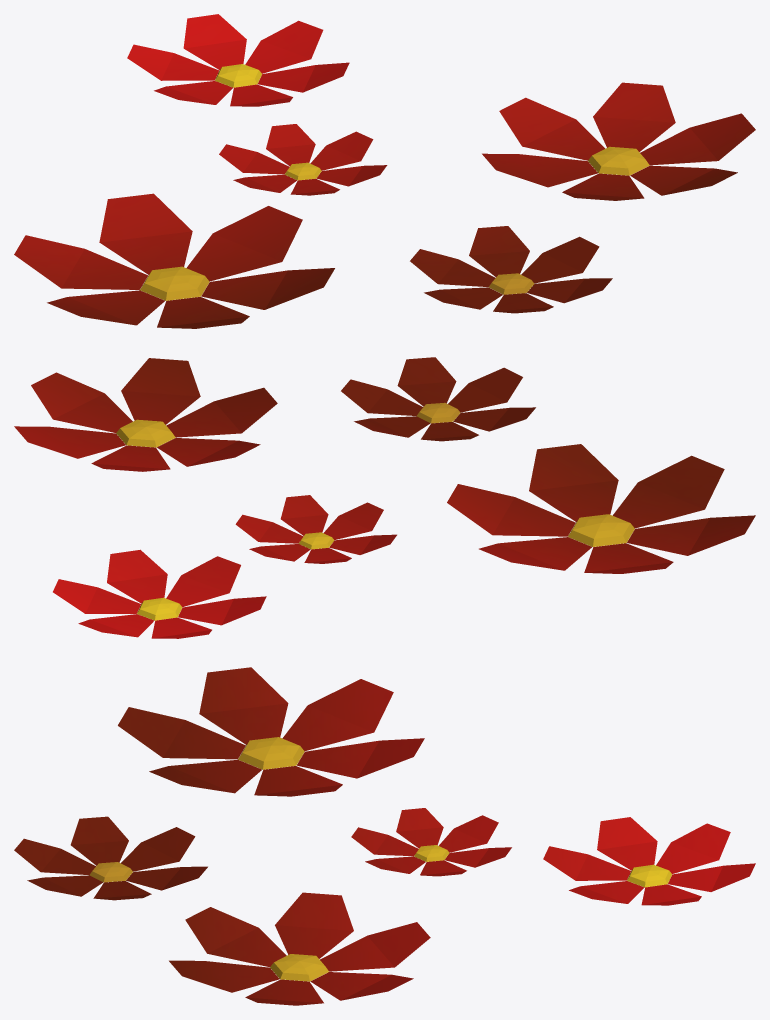
The model's file is ground_flowers_2.fbx.
3 renders of one model, top to bottom at view 1: azimuth 30°, elevation 25°; view 2: azimuth 150°, elevation 25°; view 3: azimuth 270°, elevation 25°, orthographic. The views are drawn at different scales.
Parts seen in each view (by area): view 1: Sphere.001; view 2: Sphere.001; view 3: Sphere.001.
Boxes of the visible parts, x1,y1,x2,y2 form: Sphere.001: [14, 14, 755, 328]; Sphere.001: [14, 357, 755, 638]; Sphere.001: [14, 667, 755, 1005].
Bounding box in the file's own units: 1.08 × 1.01 × 0.0356.
